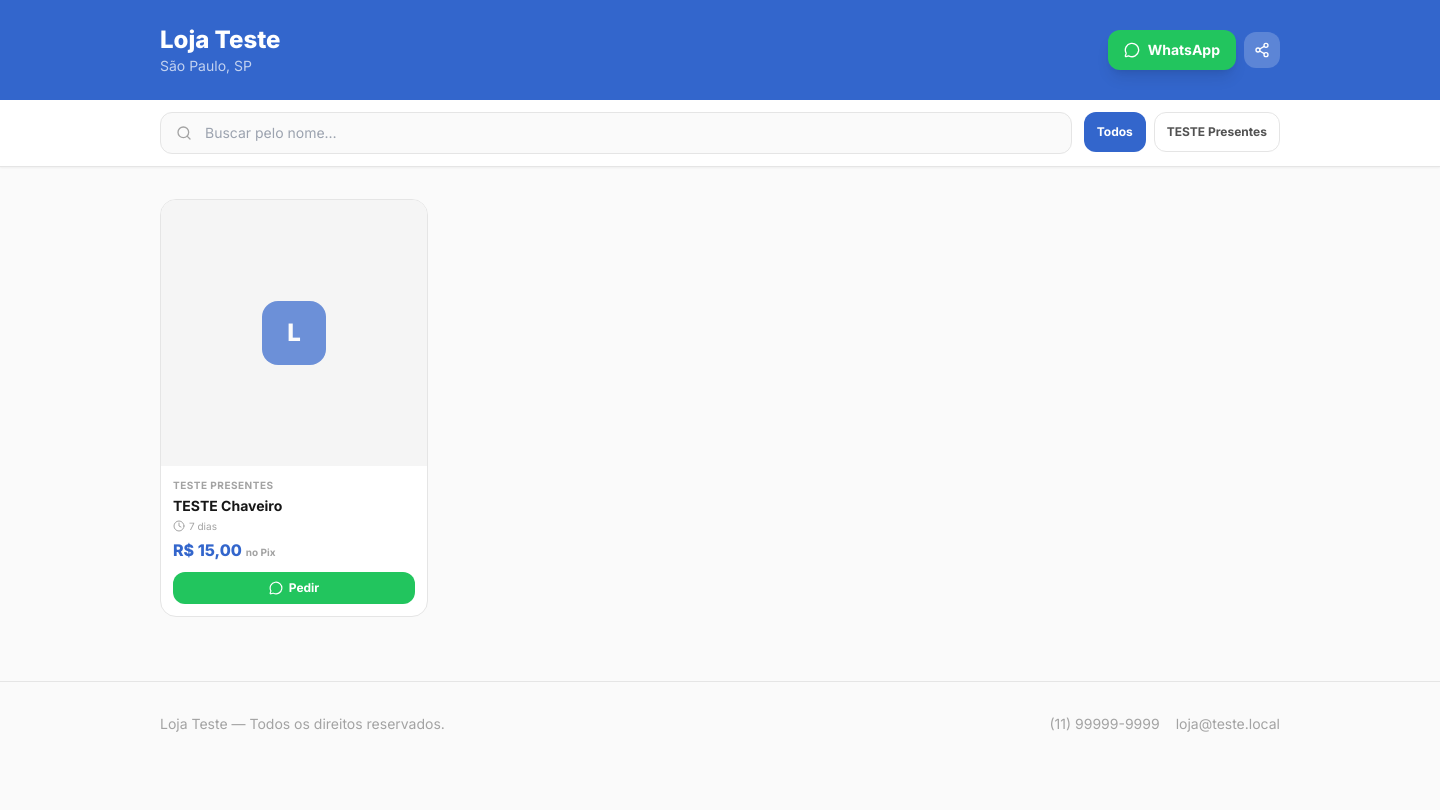
it: Catálogo público: vitrine em grade › busca só pelo nome; cada produto tem "Pedir" no WhatsApp (regra do 55); sem foto, a inicial da loja
Expected: the text "L" is shown, top-left (262, 301), bottom-right (326, 365)
Type "MDF personalizado" into the field named "Buscar pelo nome" at {"x": 616, "y": 133}, box top-left (160, 112), bottom-right (1072, 154)
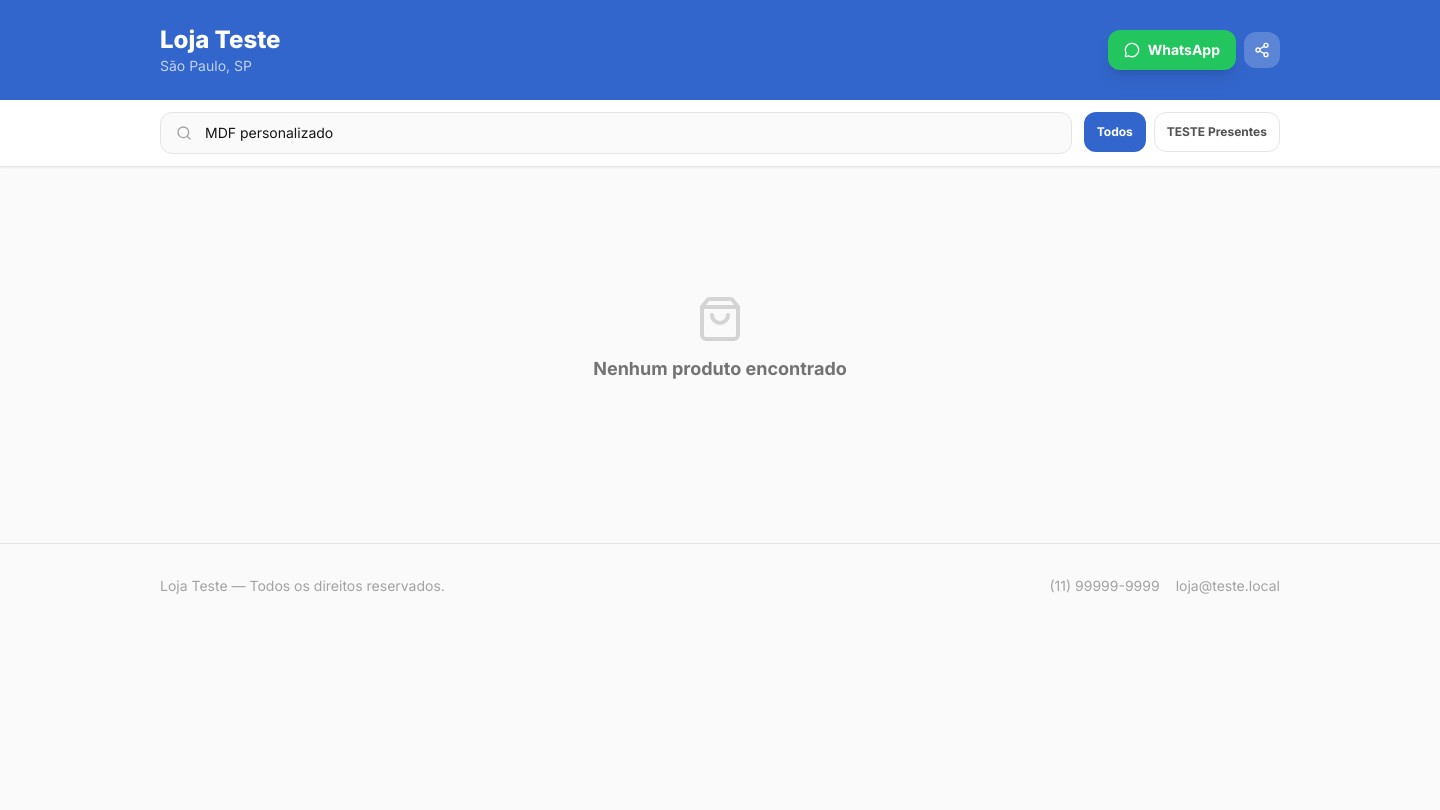
Now the text "Nenhum produto encontrado" is shown, box top-left (593, 358), bottom-right (847, 379)
Replace the text in the field named "Buscar pelo nome" with "chaveiro" at {"x": 616, "y": 133}, box top-left (160, 112), bottom-right (1072, 154)
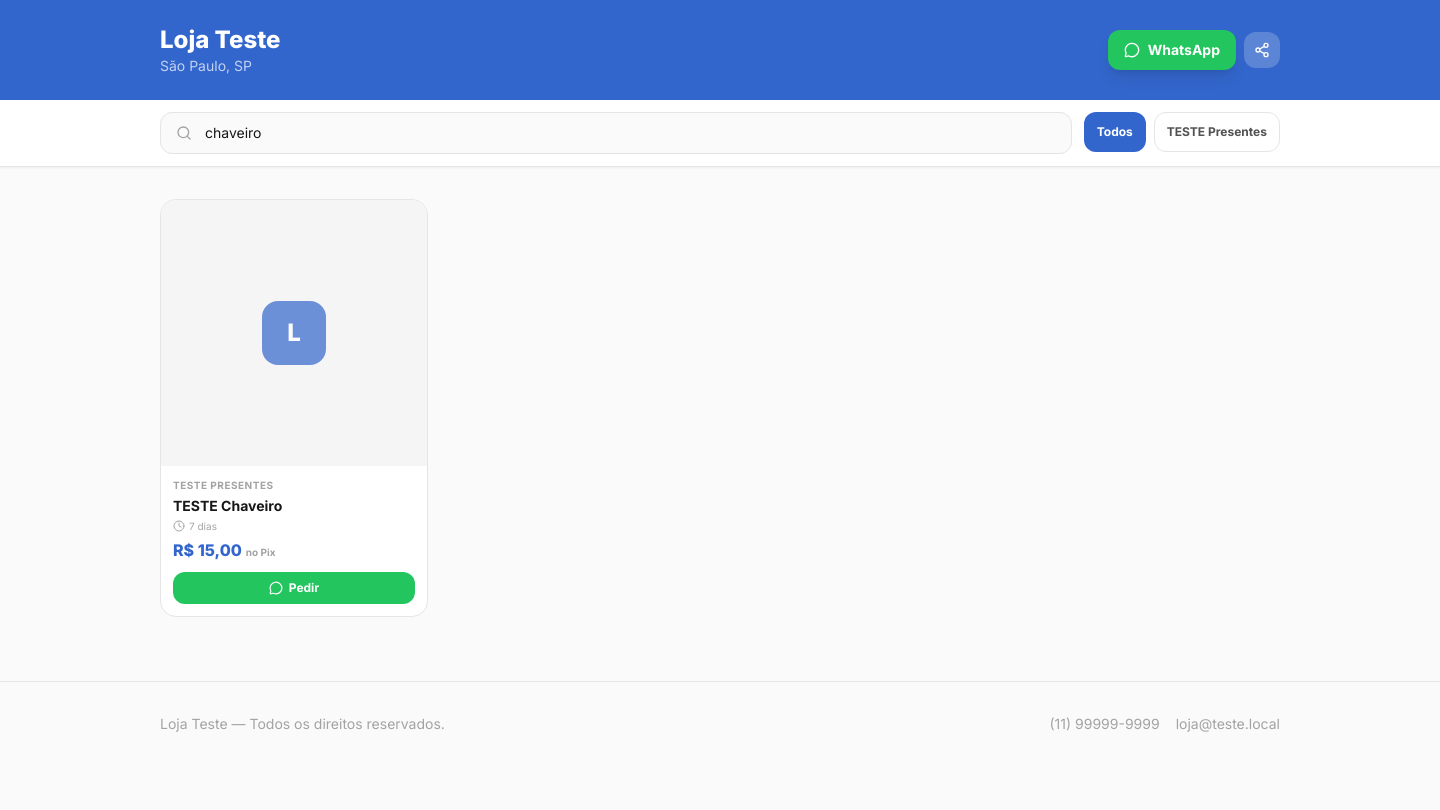
Now the text "TESTE Chaveiro" is shown, box top-left (173, 497), bottom-right (282, 514)
